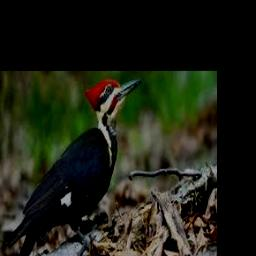Woodpecker: (0, 78, 141, 256)
